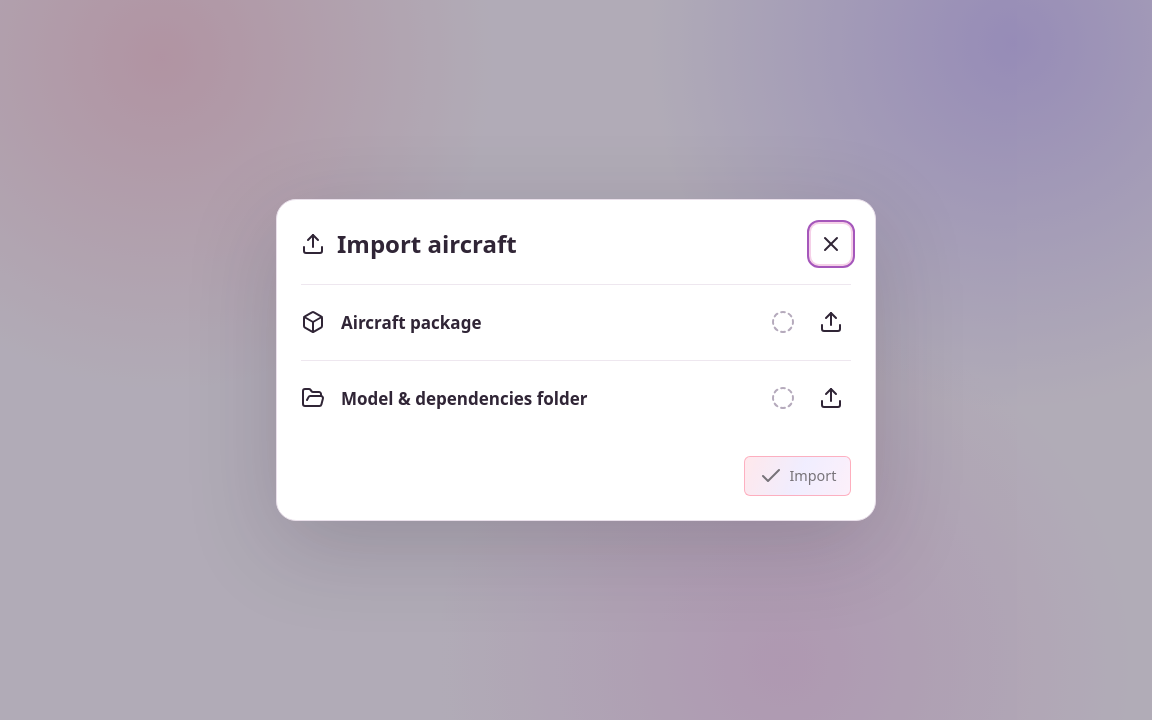
Test: aircraft upload › keeps uploaded files when processing requires dependencies
Click the button named "Upload Aircraft package" at (831, 322), box 811,302 -> 851,342
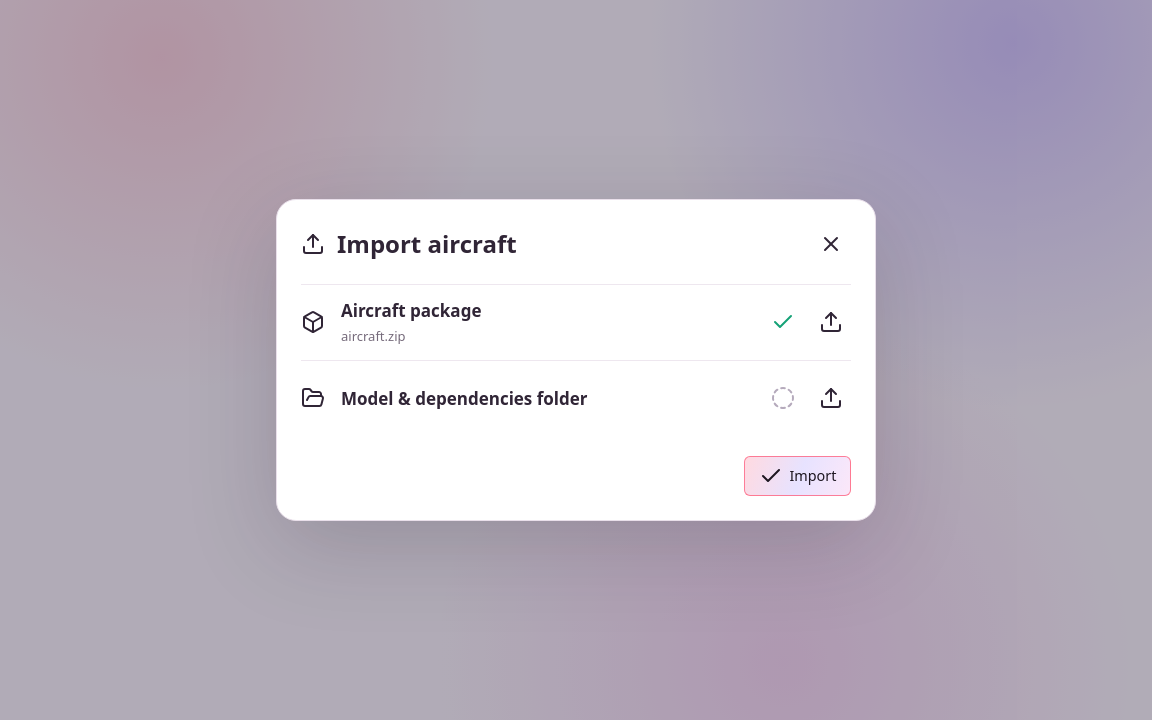
Result: the text "aircraft.zip" is shown at 341,327 -> 406,345
Result: the button "Import" is enabled
Click the button "Import" at (798, 476), box 744,456 -> 851,496
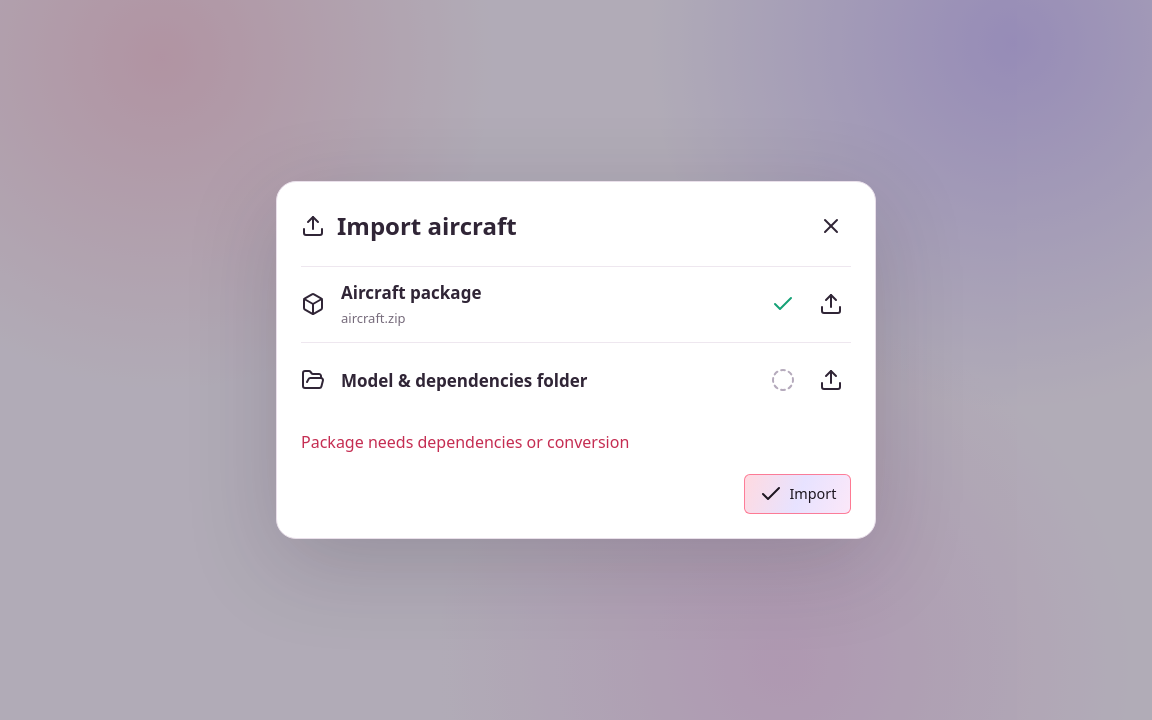
Result: the text "aircraft.zip" is shown at 341,309 -> 406,327
Result: the message "Package needs dependencies or conversion" is shown at 301,431 -> 629,453
